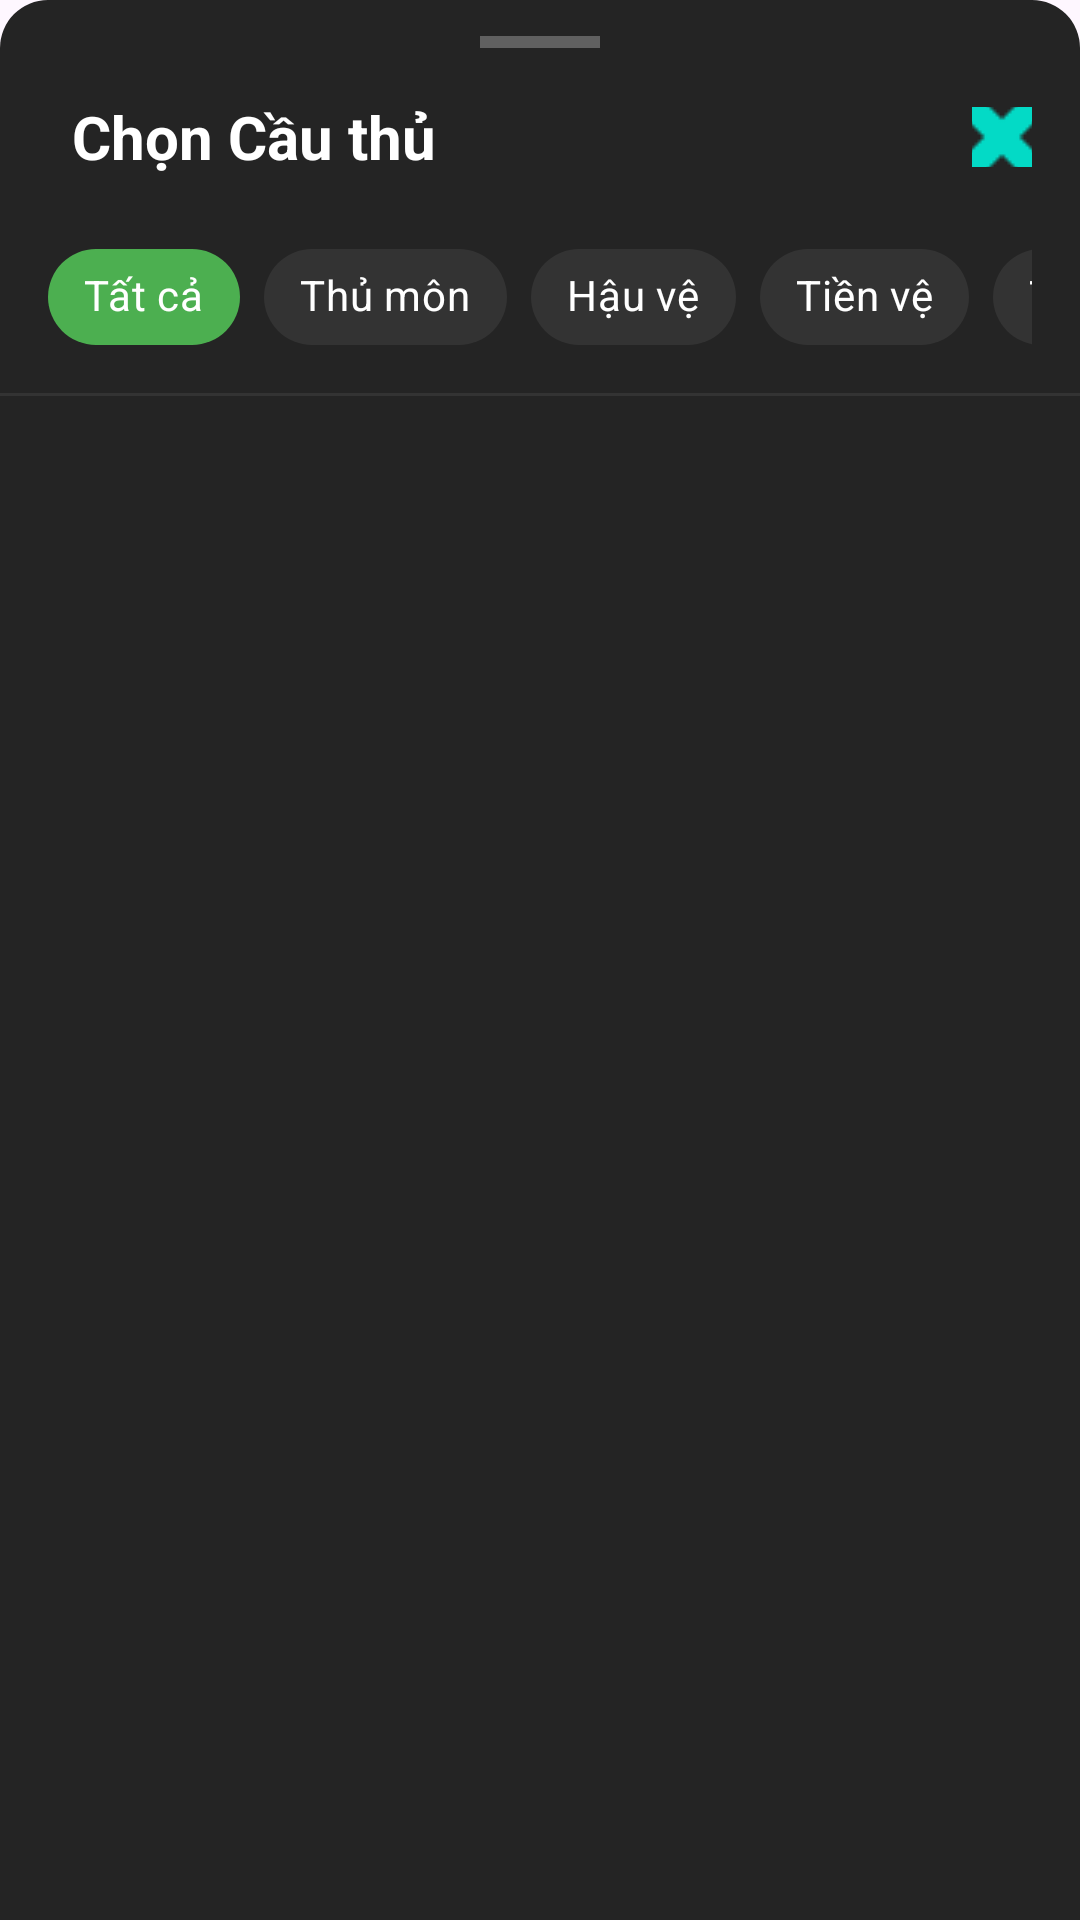

Locate icon controls on the screen. Image size 1080 × 1920, boxes as (x1, y1, x2, y2).
Đóng: (972, 107, 1032, 167)
